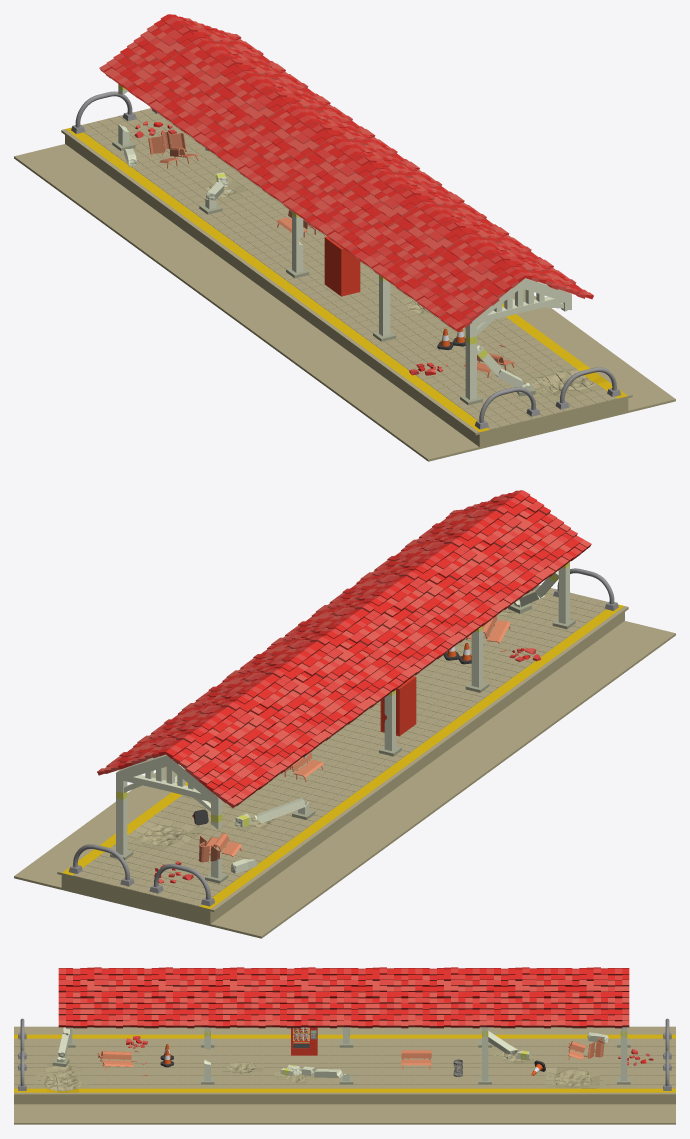
File: station.fbx
3 renders of one model, top to bottom at view 1: azimuth 30°, elevation 25°; view 2: azimuth 150°, elevation 25°; view 3: azimuth 270°, elevation 25°, orthographic. The views are drawn at different scales.
Parts seen in each view (by area): view 1: Cube, Cube.005, Cube.002, Cylinder.008, Cube.010; view 2: Cube, Cube.005, Cube.002, Cylinder.008, Cube.010; view 3: Cube, Cube.005, Cube.002, Cylinder.008, Cube.010, Cube.023, Cube.003, Cube.008, Cube.021.
Boxes of the visible parts, bbox=[...] form: Cube: bbox=[14, 108, 675, 461]; Cube.005: bbox=[99, 14, 593, 331]; Cube.002: bbox=[112, 84, 571, 405]; Cylinder.008: bbox=[71, 91, 621, 429]; Cube.010: bbox=[324, 236, 360, 296]; Cube: bbox=[14, 585, 675, 938]; Cube.005: bbox=[97, 490, 591, 807]; Cube.002: bbox=[110, 562, 575, 883]; Cylinder.008: bbox=[68, 568, 618, 906]; Cube.010: bbox=[380, 676, 416, 736]; Cube: bbox=[14, 1026, 675, 1124]; Cube.005: bbox=[58, 967, 629, 1028]; Cube.002: bbox=[65, 1027, 630, 1084]; Cylinder.008: bbox=[18, 1018, 671, 1090]; Cube.010: bbox=[291, 1027, 317, 1055]; Cube.023: bbox=[401, 1050, 431, 1069]; Cube.003: bbox=[98, 1051, 133, 1070]; Cube.008: bbox=[488, 1031, 517, 1054]; Cube.021: bbox=[584, 1036, 604, 1058].
Bounding box in the file's own units: 2463 × 1314 × 7140.
